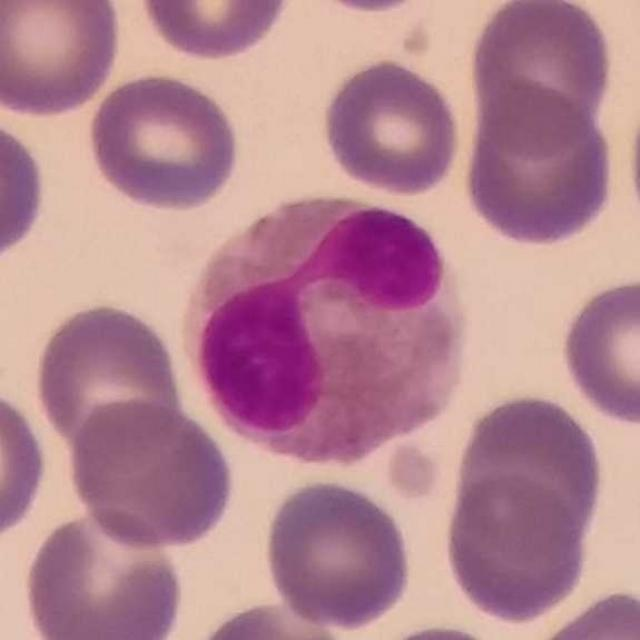eosino: (181, 192, 474, 463)
